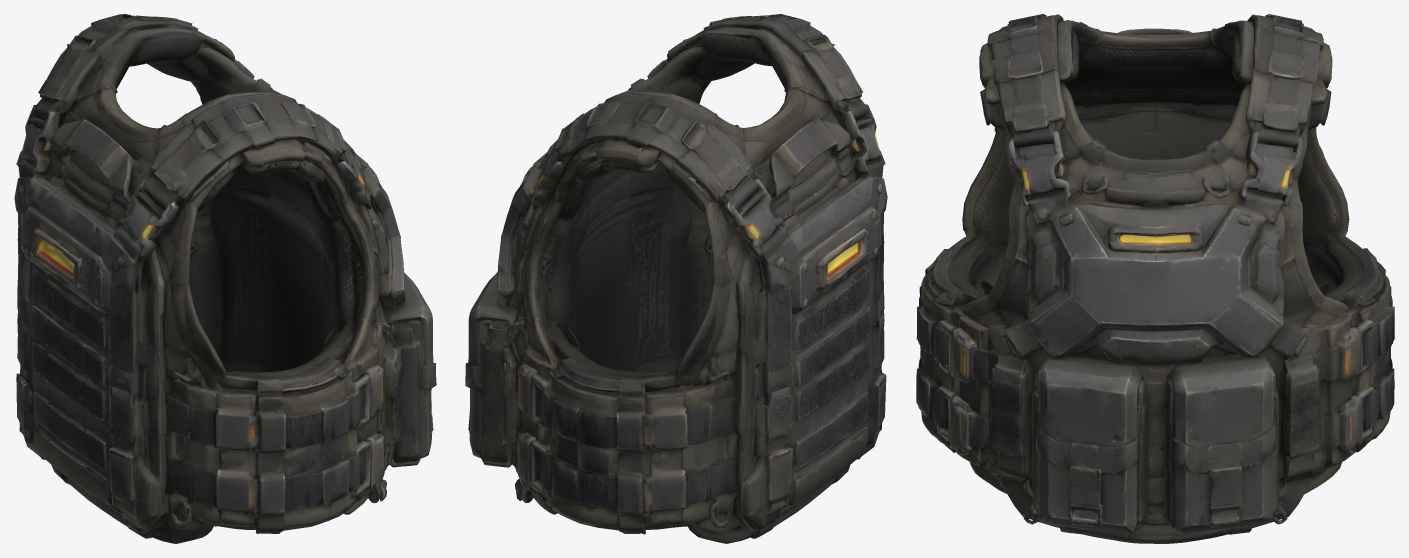
File: body-armor-ii-v1.glb
3 renders of one model, left to right at view 1: azimuth 30°, elevation 25°; view 2: azimuth 150°, elevation 25°; view 3: azimuth 270°, elevation 25°, orthographic.
Visible parts, largest first — view 1: tripo_node_01c0f3e7-3830-4ac6-b72a-5dee294f16a6; view 2: tripo_node_01c0f3e7-3830-4ac6-b72a-5dee294f16a6; view 3: tripo_node_01c0f3e7-3830-4ac6-b72a-5dee294f16a6.
Boxes of the visible parts, box(x1,y1,x2,y2) form: tripo_node_01c0f3e7-3830-4ac6-b72a-5dee294f16a6: box(14, 14, 436, 543); tripo_node_01c0f3e7-3830-4ac6-b72a-5dee294f16a6: box(465, 14, 887, 543); tripo_node_01c0f3e7-3830-4ac6-b72a-5dee294f16a6: box(916, 14, 1394, 543).
Size of the model in its own units: 0.8192 by 0.9798 by 0.9565.
Materials: 1 (1 with a texture image).
